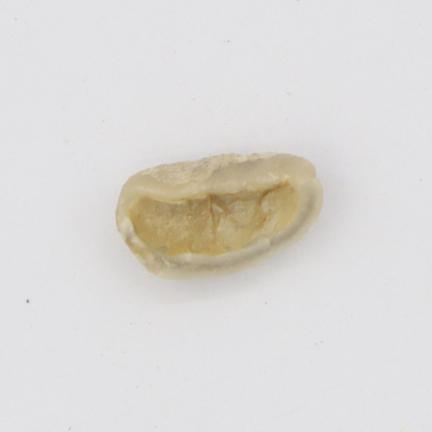shell: (118, 153, 322, 277)
